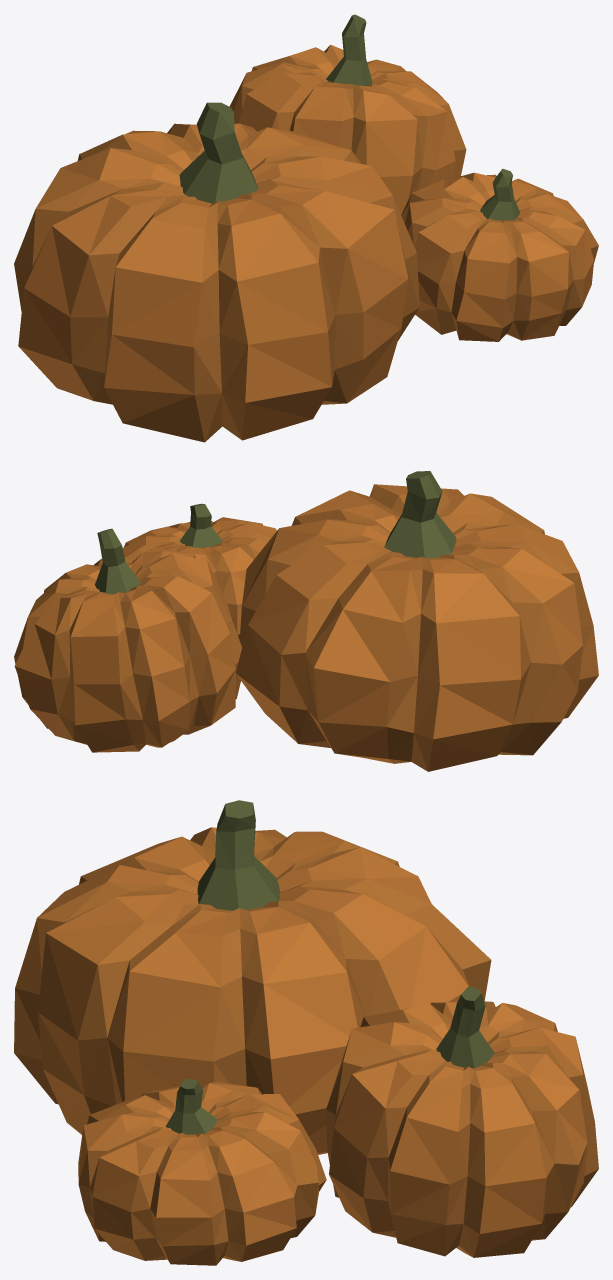
File: SM_Prop_Pumpkin_02.gltf
3 renders of one model, top to bottom at view 1: azimuth 30°, elevation 25°; view 2: azimuth 150°, elevation 25°; view 3: azimuth 270°, elevation 25°, orthographic. The views are drawn at different scales.
Parts seen in each view (by area): view 1: SM_Prop_Pumpkin_02; view 2: SM_Prop_Pumpkin_02; view 3: SM_Prop_Pumpkin_02.
Boxes of the visible parts, x1,y1,x2,y2 form: SM_Prop_Pumpkin_02: [14, 14, 598, 442]; SM_Prop_Pumpkin_02: [14, 471, 598, 771]; SM_Prop_Pumpkin_02: [14, 800, 598, 1265].
Bounding box in the file's own units: 0.925 × 0.4762 × 0.7909.
1 material, 1 textured.
